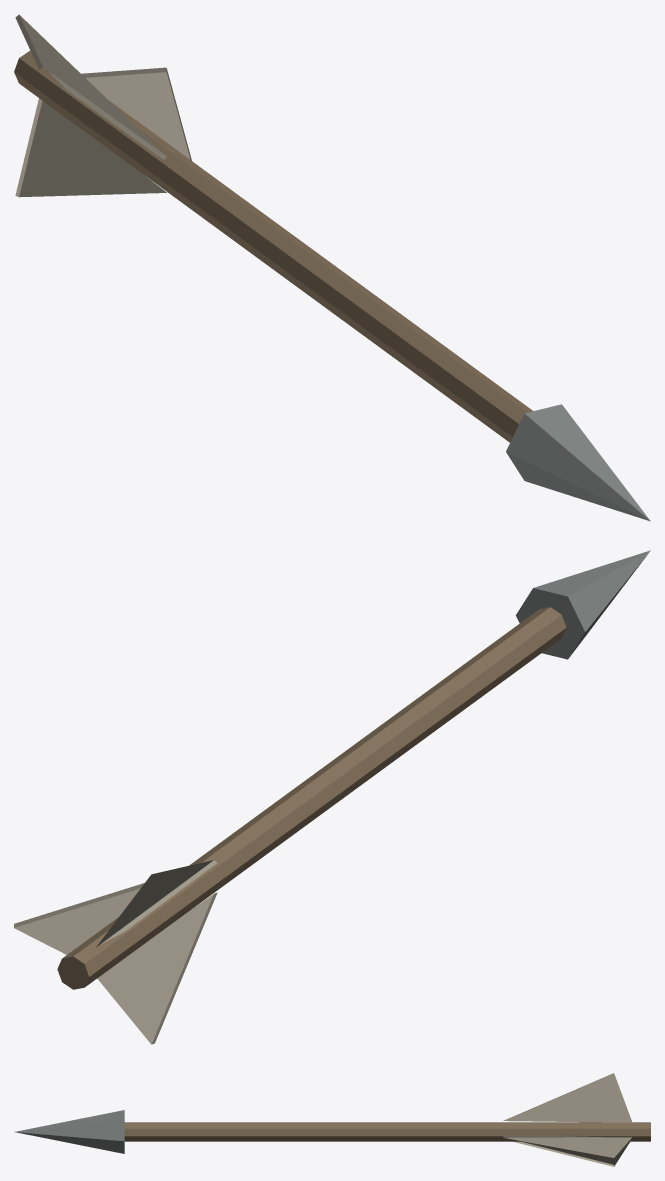
The model's file is bolt_r2.glb.
3 views of the same model, one above another, from view 1: azimuth 30°, elevation 25°; view 2: azimuth 150°, elevation 25°; view 3: azimuth 270°, elevation 25° (orthographic). The views are drawn at different scales.
Size of the model in its own units: 0.0486 by 0.0561 by 0.345.
